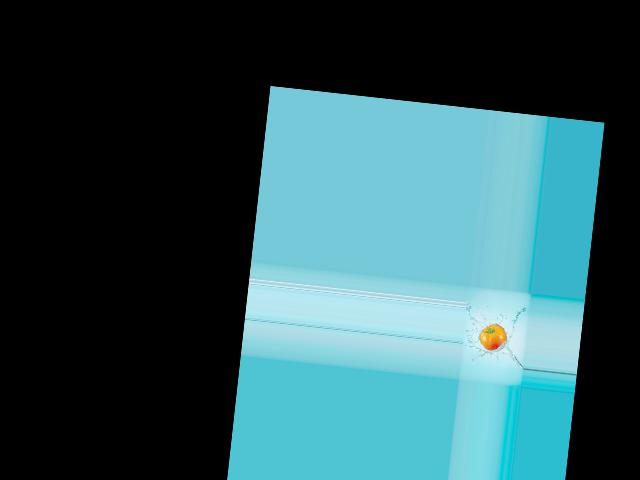tomato: (477, 322, 508, 352)
